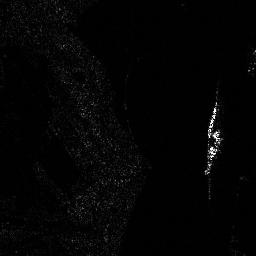ship: (204, 132, 219, 175), (205, 100, 221, 137)
